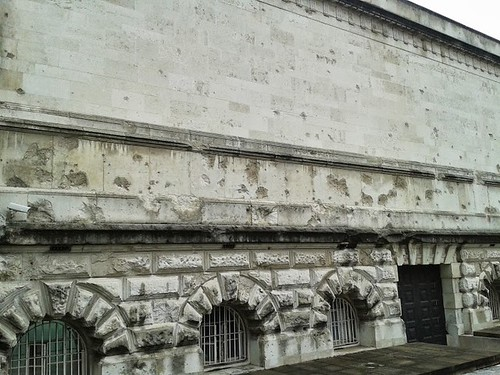door: (396, 262, 457, 353)
wall: (8, 1, 492, 331)
